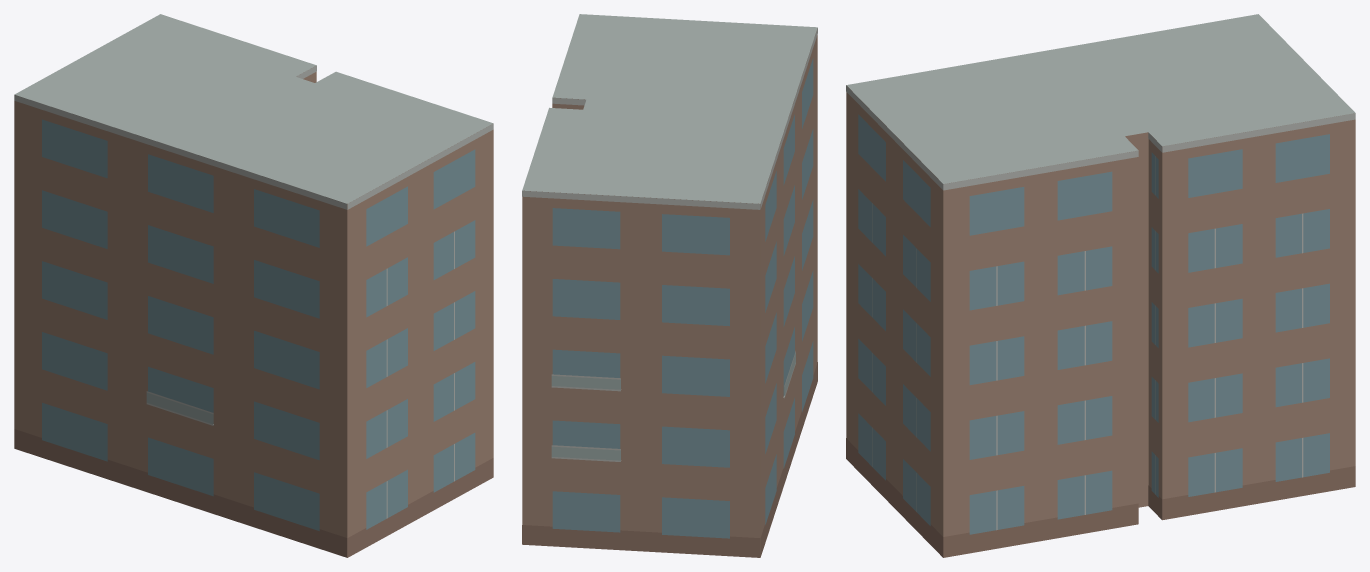
The model's file is survey-upis-32718886.glb.
3 views of the same model, side by side, from view 1: azimuth 30°, elevation 25°; view 2: azimuth 150°, elevation 25°; view 3: azimuth 270°, elevation 25° (orthographic). The views are drawn at different scales.
Visible parts, largest first — view 1: survey-upis-32718886.tmp; view 2: survey-upis-32718886.tmp; view 3: survey-upis-32718886.tmp.
Boxes of the visible parts, x1,y1,x2,y2 form: survey-upis-32718886.tmp: [14, 14, 493, 557]; survey-upis-32718886.tmp: [522, 14, 817, 557]; survey-upis-32718886.tmp: [846, 14, 1355, 557].
Size of the model in its own units: 13.87 by 14.2 by 17.55.
